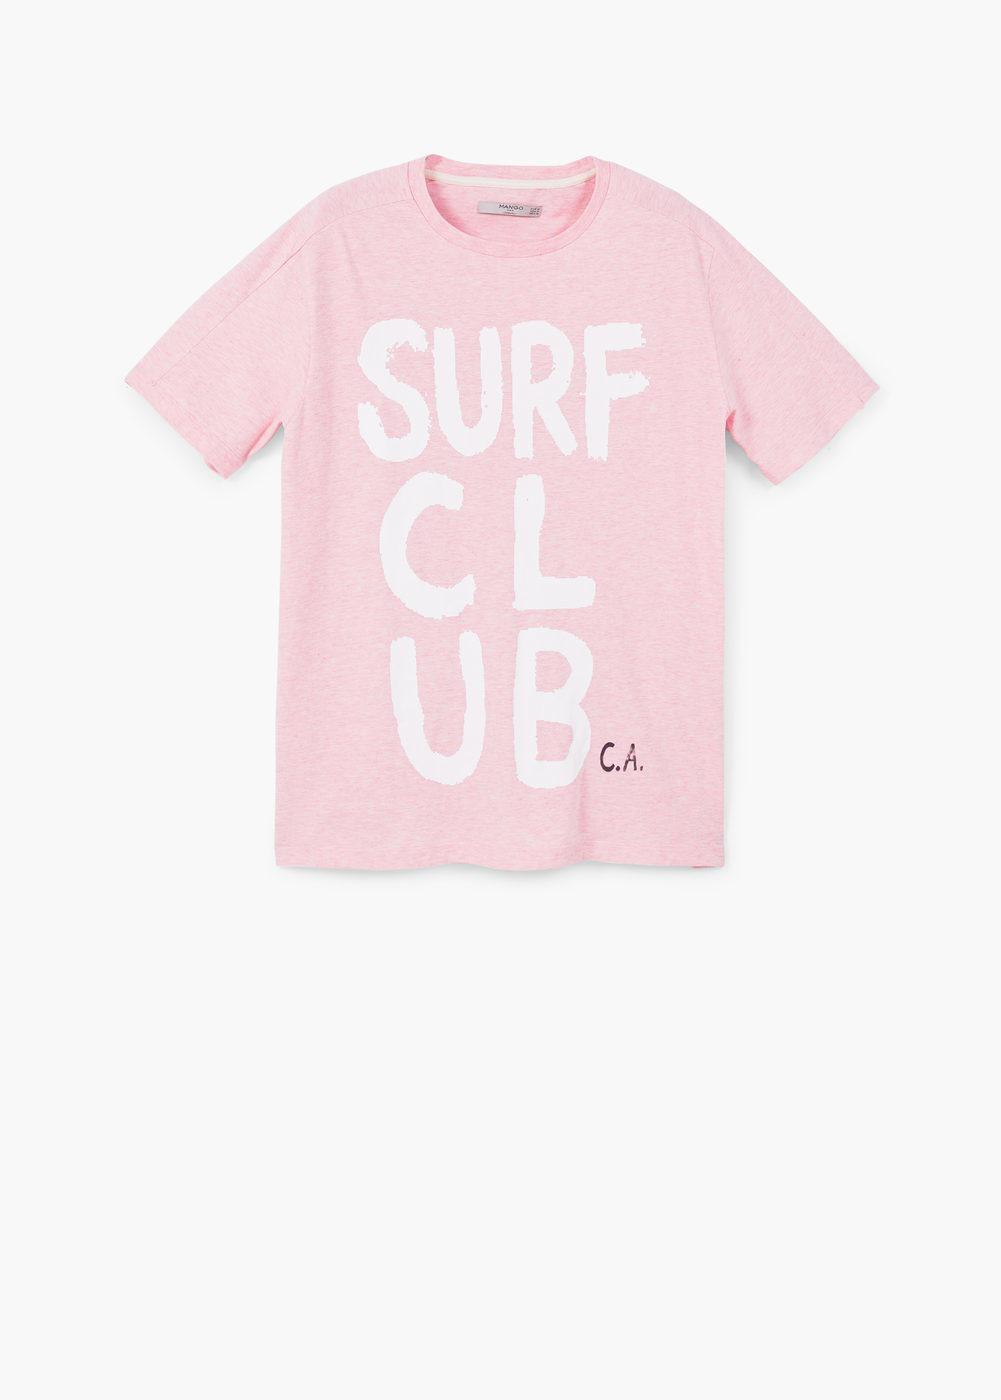teeshirt: (133, 140, 895, 916)
